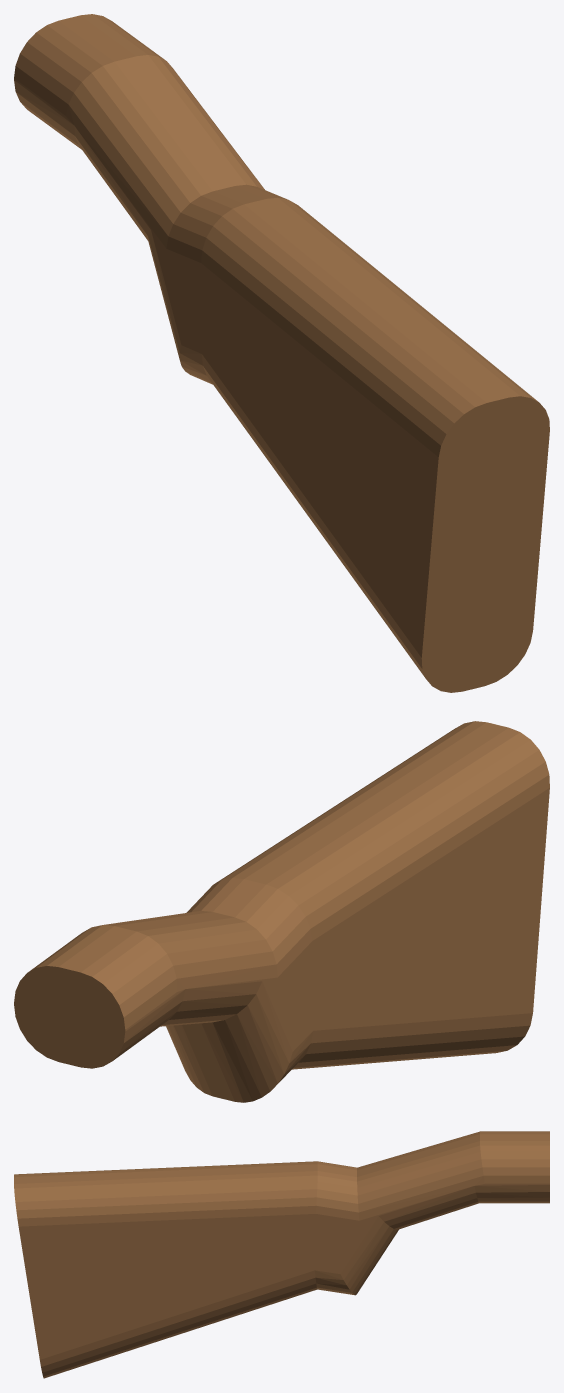
File: Weapon-Electric-Stock.fbx
3 views of the same model, one above another, from view 1: azimuth 30°, elevation 25°; view 2: azimuth 150°, elevation 25°; view 3: azimuth 270°, elevation 25° (orthographic). The views are drawn at different scales.
Parts seen in each view (by area): view 1: Weapon-Electric-Stock; view 2: Weapon-Electric-Stock; view 3: Weapon-Electric-Stock.
Boxes of the visible parts, x1,y1,x2,y2 form: Weapon-Electric-Stock: (14,14,549,692); Weapon-Electric-Stock: (14,721,549,1102); Weapon-Electric-Stock: (14,1131,549,1378).
Bounding box in the file's own units: 75 × 242 × 500.
